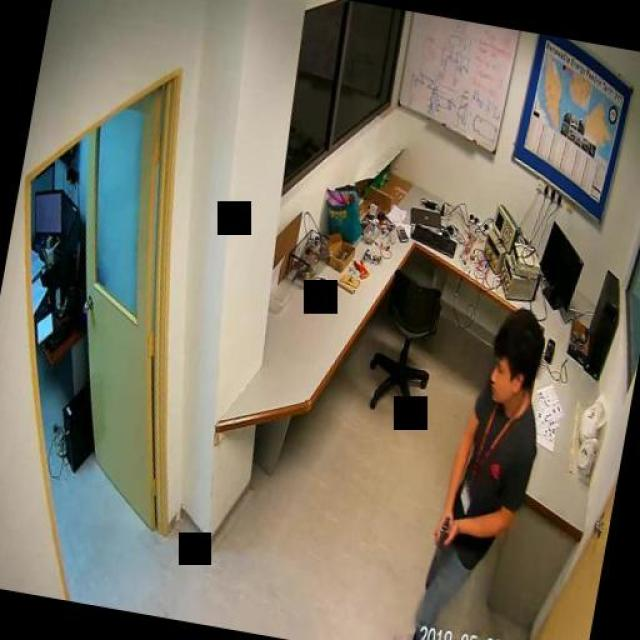gun: (422, 510, 453, 589)
